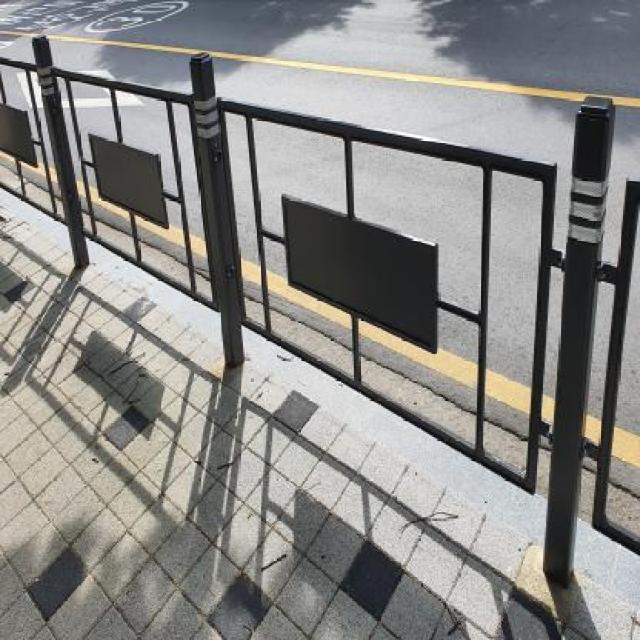fence: (167, 17, 635, 606), (7, 5, 283, 386)
